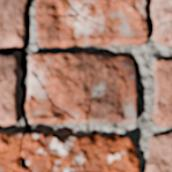brick: (29, 54, 136, 122), (36, 0, 147, 47), (0, 0, 27, 46), (0, 56, 17, 125), (153, 61, 171, 126), (150, 0, 171, 45), (147, 134, 171, 171), (30, 117, 64, 124), (67, 117, 74, 122)
broken_brick: (0, 132, 141, 171)
crack: (0, 2, 78, 169)
